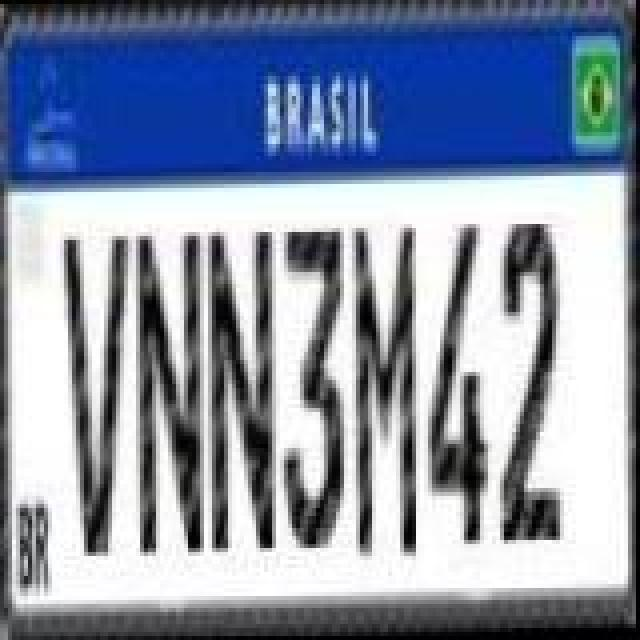2: (494, 214, 562, 550)
3: (278, 226, 346, 550)
4: (422, 222, 490, 546)
M: (356, 226, 420, 562)
N: (136, 230, 208, 554), (208, 230, 280, 554)
V: (64, 232, 136, 556)
